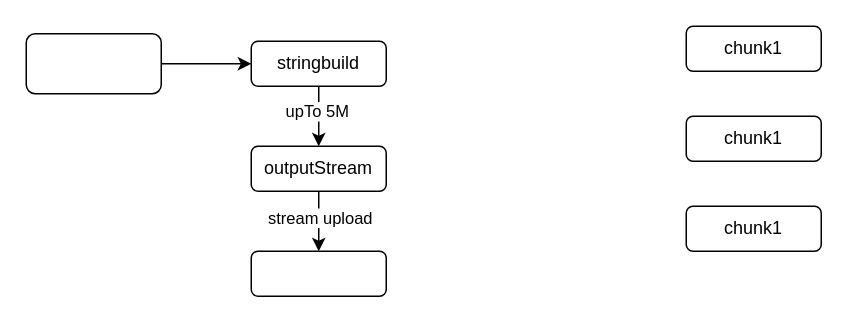
Some shapes in this 848 by 323 pixel diagram are drawn without their labels. Here are the shapes that lost their labels. From the top down, the centre of each, then its label:
the point at 93,63: JDBC resultSet Stream
the point at 318,273: minio object
